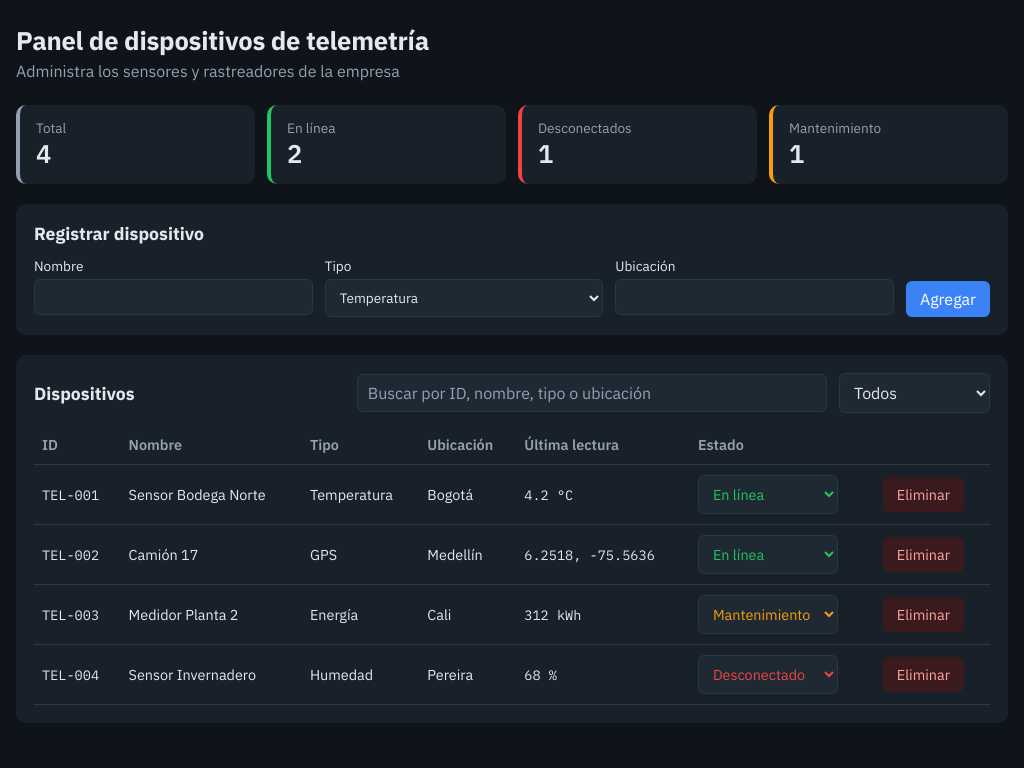
Test: App › elimina un dispositivo
Click the button with aria-label "Eliminar Camión 17". click: (923, 554)
box: [883,537,964,572]
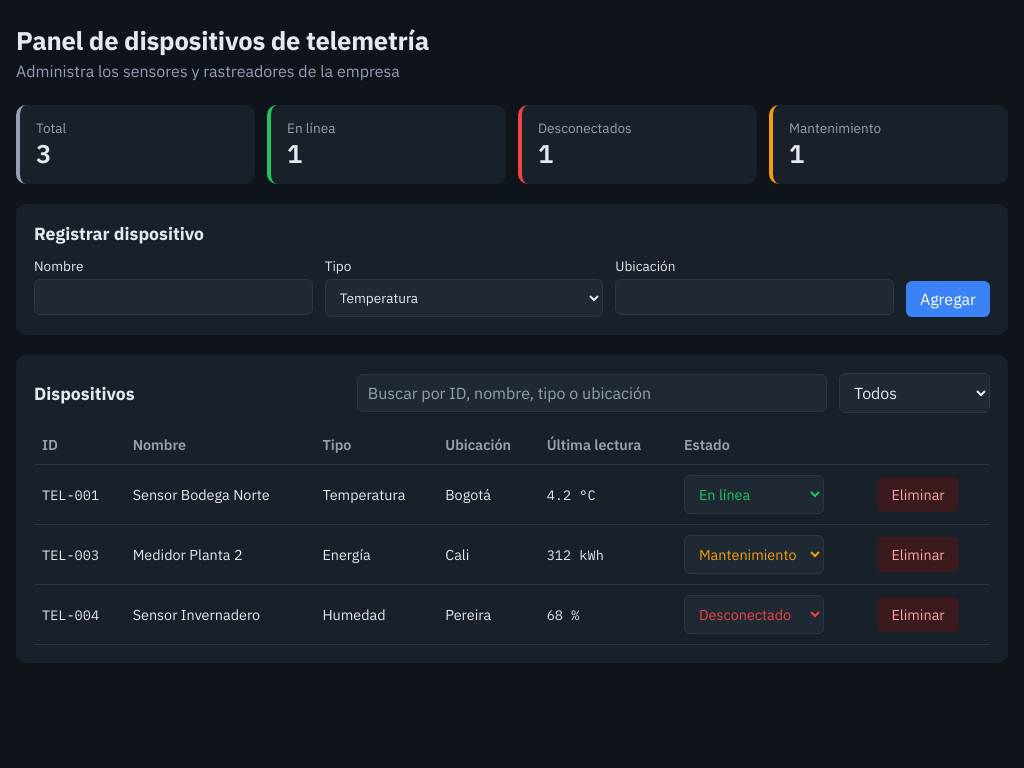
Expected: the text "Camión 17" is gone
Expected: the text with test id "total" reads "3", [36,137,51,170]
